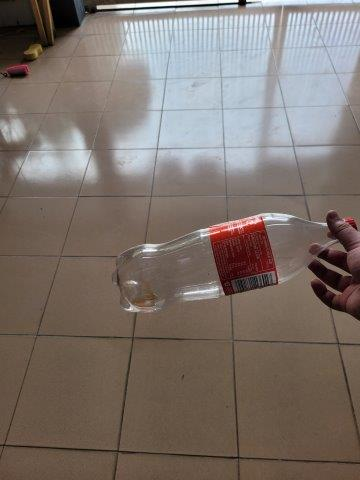botolplastik: (114, 212, 360, 315)
